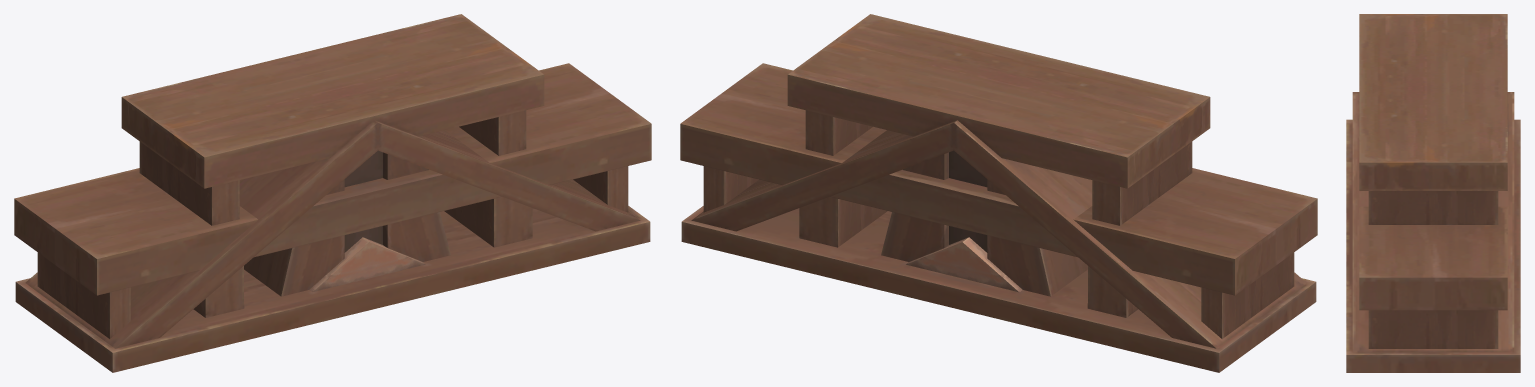
Rendered from Homeworld_Interior_Xm_Decoration_Prop_Ladder_01_Vo.fbx.
3 renders of one model, left to right at view 1: azimuth 30°, elevation 25°; view 2: azimuth 150°, elevation 25°; view 3: azimuth 270°, elevation 25°, orthographic. The views are drawn at different scales.
Visible parts, largest first — view 1: Indoor_Xm_Prop_Czj_Decoration_12_Vo; view 2: Indoor_Xm_Prop_Czj_Decoration_12_Vo; view 3: Indoor_Xm_Prop_Czj_Decoration_12_Vo.
Boxes of the visible parts, x1,y1,x2,y2 form: Indoor_Xm_Prop_Czj_Decoration_12_Vo: [14, 14, 651, 372]; Indoor_Xm_Prop_Czj_Decoration_12_Vo: [680, 14, 1317, 372]; Indoor_Xm_Prop_Czj_Decoration_12_Vo: [1346, 14, 1520, 372].
Bounding box in the file's own units: 2.21 × 0.7091 × 0.672.
